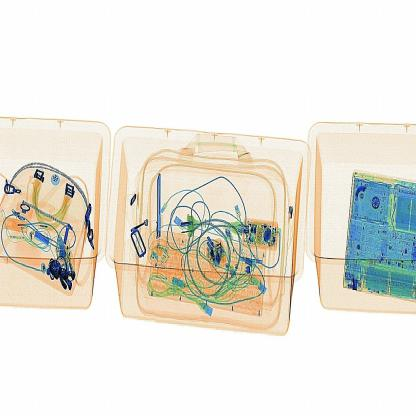pliers: (146, 166, 170, 244)
